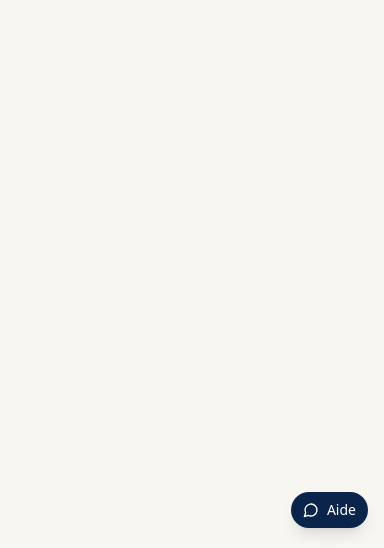
Test case: Lot 2A : panneau branché sur les décisions serveur › propose une action explicite pour le professeur
Click the button "Aide" at (329, 510), box [291, 492, 368, 528]
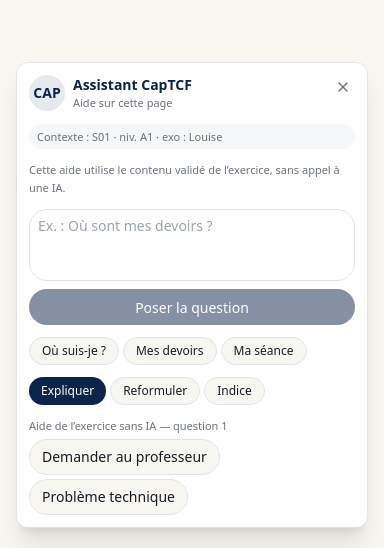
Result: the button "Demander au professeur" is shown
Click the button "Demander au professeur" at (124, 457), box [29, 439, 220, 475]
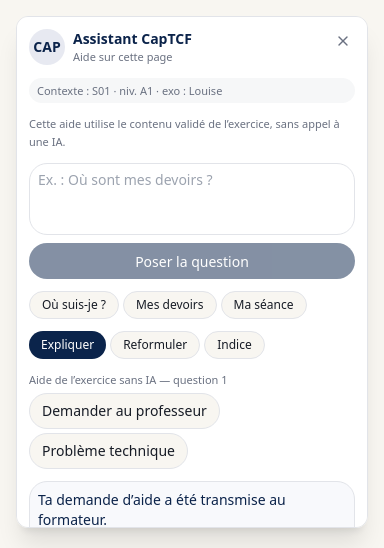
Result: the text "Ta demande d’aide a été transmise au formateur." is shown at [38, 490, 286, 528]
